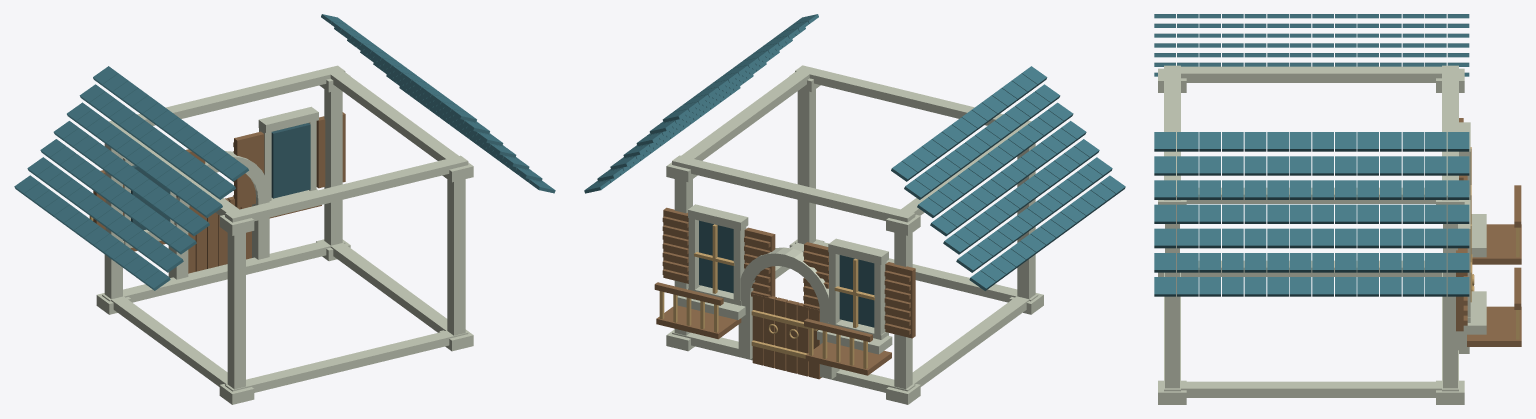
File: workshop.glb
The picture shows the model from 3 angles, left to right: view 1: azimuth 30°, elevation 25°; view 2: azimuth 150°, elevation 25°; view 3: azimuth 270°, elevation 25°; orthographic projection. The views are drawn at different scales.
Parts seen in each view (by area): view 1: Recessed azure arcade glazing.001; view 2: Recessed azure arcade glazing.001; view 3: Recessed azure arcade glazing.001.
Part boxes in pixels (x1=…): Recessed azure arcade glazing.001: x1=14, y1=14, x2=555, y2=404; Recessed azure arcade glazing.001: x1=584, y1=14, x2=1125, y2=404; Recessed azure arcade glazing.001: x1=1154, y1=14, x2=1521, y2=404.
Size of the model in its own units: 6.23 by 3.48 by 4.36.
